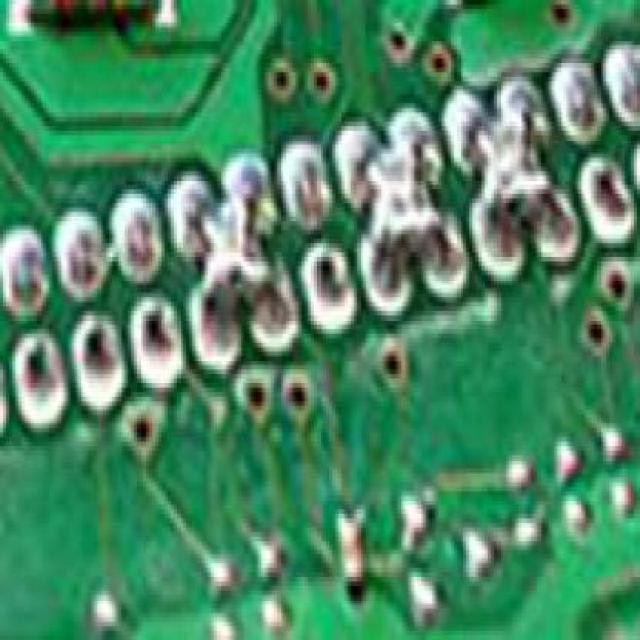Soldering shorted: (168, 144, 298, 361), (338, 112, 454, 306), (468, 86, 574, 266)
